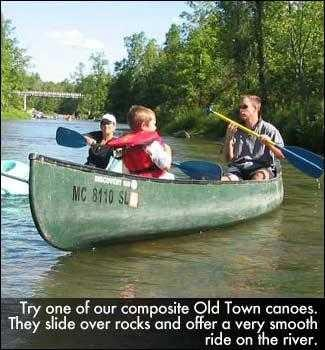kayak: (28, 154, 283, 252)
